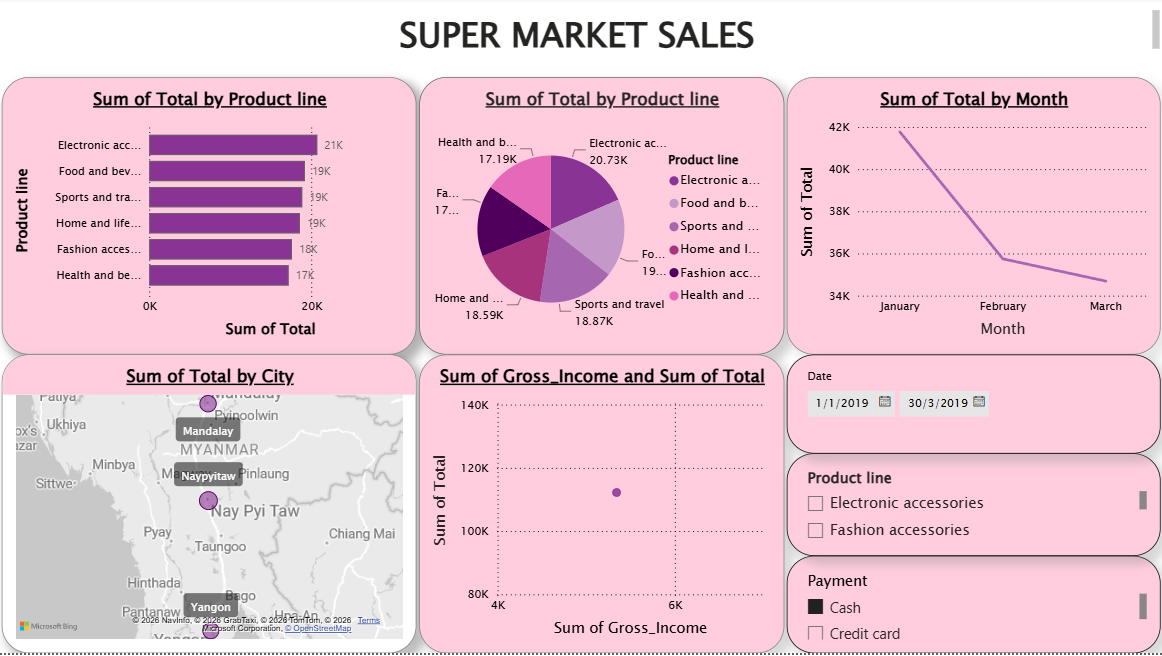

The page's visual inventory and layout, read from the dashboard file:
{"tool":"powerbi","page":{"name":"Dashboard","canvas":[1280,720],"ordinal":5},"visuals":[{"type":"barChart","fields":{"Y":["Sum(supermarket_sales_cleaned.Total)"],"Category":["supermarket_sales_cleaned.Product line"]},"box":[4.1,87.8,455.6,304.6],"z":0},{"type":"pieChart","fields":{"Category":["supermarket_sales_cleaned.Product line"],"Y":["Sum(supermarket_sales_cleaned.Total)"]},"box":[462.4,87.8,400.7,304.6],"z":1000},{"type":"lineChart","fields":{"Category":["supermarket_sales_cleaned.Date.Variation.Date Hierarchy.Month"],"Y":["Sum(supermarket_sales_cleaned.Total)"]},"box":[865.9,87.8,410.3,304.6],"z":2000},{"type":"map","fields":{"Category":["supermarket_sales_cleaned.City"],"Size":["Sum(supermarket_sales_cleaned.Total)"]},"box":[4.1,392.5,455.6,328],"z":3000},{"type":"scatterChart","fields":{"X":["Sum(supermarket_sales_cleaned.Gross_Income)"],"Y":["Sum(supermarket_sales_cleaned.Total)"]},"box":[462.4,392.5,400.7,328],"z":4000},{"type":"slicer","fields":{"Values":["supermarket_sales_cleaned.Payment"]},"box":[865.9,613.4,410.3,107],"z":5000},{"type":"slicer","fields":{"Values":["supermarket_sales_cleaned.Product line"]},"box":[865.9,500.9,410.3,112.5],"z":6000},{"type":"slicer","fields":{"Values":["supermarket_sales_cleaned.Date"]},"box":[865.9,392.5,410.3,108.4],"z":7000},{"type":"textbox","box":[0,9.6,1280.3,59],"z":7001}]}

Visuals, with their boxes in screenshot pixels (x1, y1, x2, y2), scaled from the page's 1280x720 canvas onto the 1162x656 screenshot:
barChart - Sum(supermarket_sales_cleaned.Total) x supermarket_sales_cleaned.Product line: locate(4, 80, 417, 358)
pieChart - supermarket_sales_cleaned.Product line x Sum(supermarket_sales_cleaned.Total): locate(420, 80, 784, 358)
lineChart - supermarket_sales_cleaned.Date.Variation.Date Hierarchy.Month x Sum(supermarket_sales_cleaned.Total): locate(786, 80, 1159, 358)
map - supermarket_sales_cleaned.City x Sum(supermarket_sales_cleaned.Total): locate(4, 358, 417, 655)
scatterChart - Sum(supermarket_sales_cleaned.Gross_Income) x Sum(supermarket_sales_cleaned.Total): locate(420, 358, 784, 655)
slicer - supermarket_sales_cleaned.Payment: locate(786, 559, 1159, 655)
slicer - supermarket_sales_cleaned.Product line: locate(786, 456, 1159, 559)
slicer - supermarket_sales_cleaned.Date: locate(786, 358, 1159, 456)
textbox: locate(0, 9, 1161, 63)
